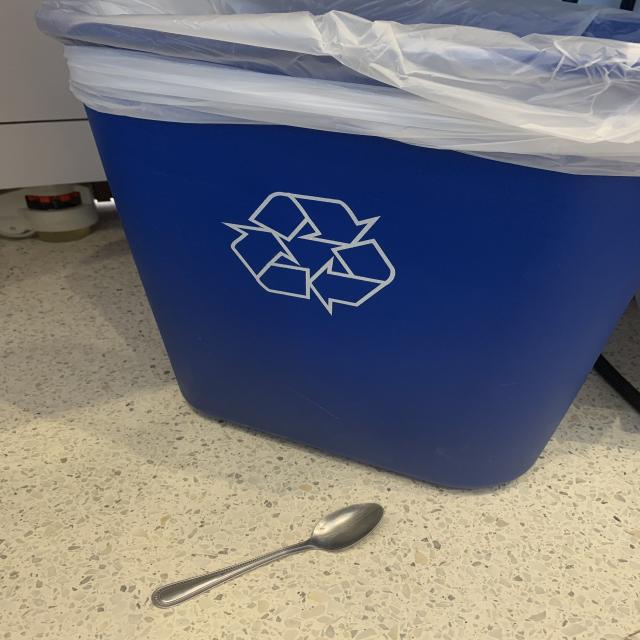Spoon: (143, 501, 389, 612)
